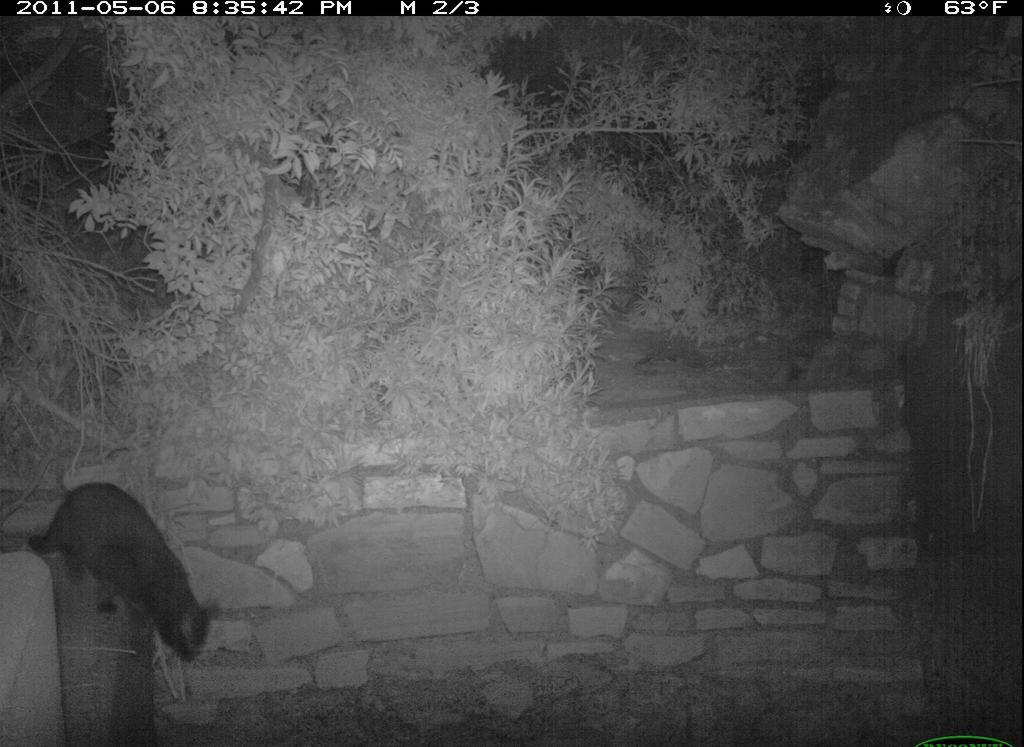cat: (24, 483, 222, 662)
